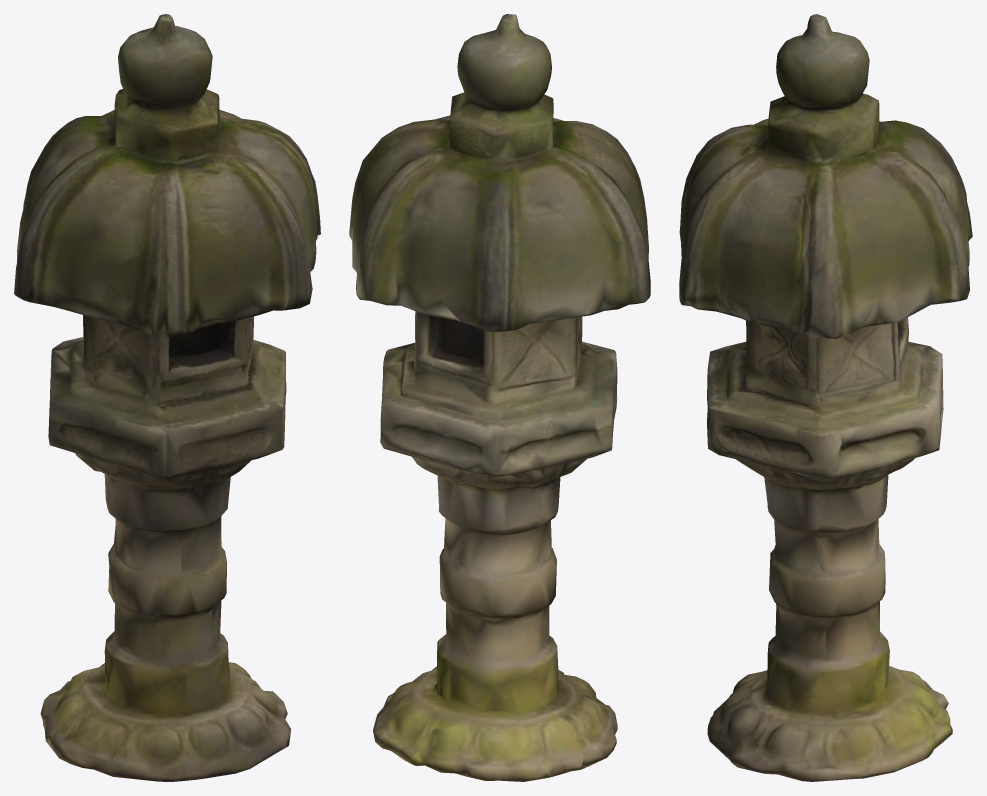
Rendered from pr_stonelantern.glb.
3 views of the same model, side by side, from view 1: azimuth 30°, elevation 25°; view 2: azimuth 150°, elevation 25°; view 3: azimuth 270°, elevation 25° (orthographic).
Bounding box in the file's own units: 0.8667 × 2 × 0.7464.
1 material, 1 textured.
